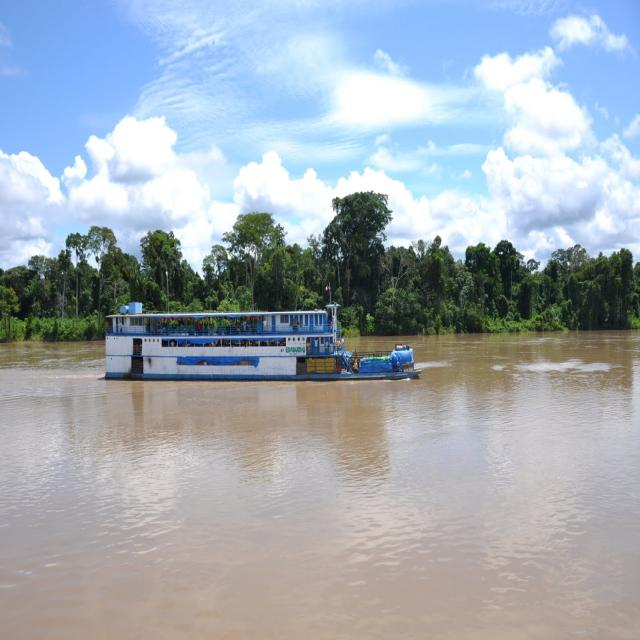houseboat: (85, 268, 429, 400)
